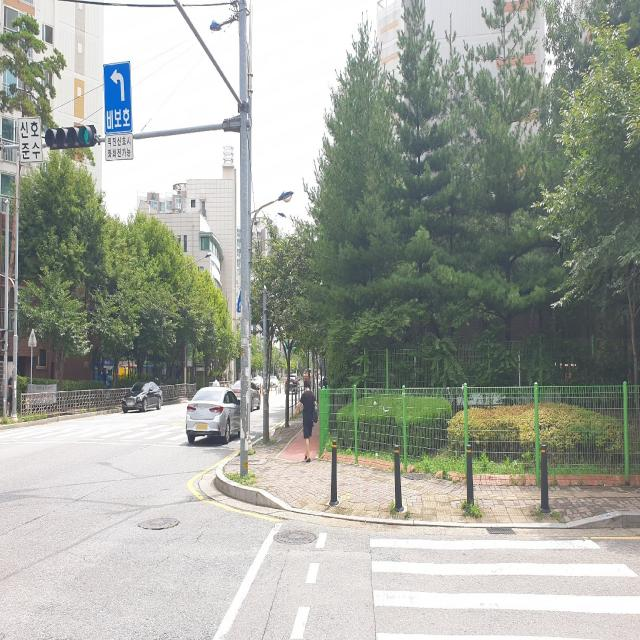횡단보도: (367, 534, 640, 640), (0, 421, 257, 451)
